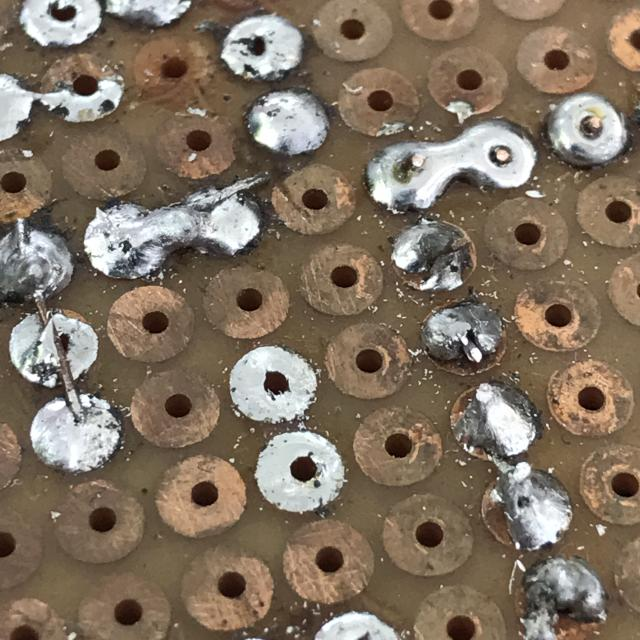bridge: (80, 189, 260, 281), (365, 120, 539, 213)
hole: (538, 88, 635, 174)
pad_less: (476, 465, 583, 558), (444, 374, 547, 468), (414, 294, 516, 382), (384, 214, 485, 302), (522, 555, 612, 640)
